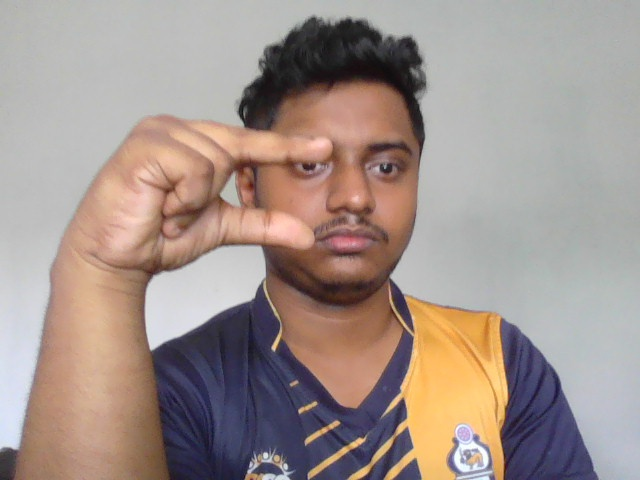No: (84, 112, 335, 273)
